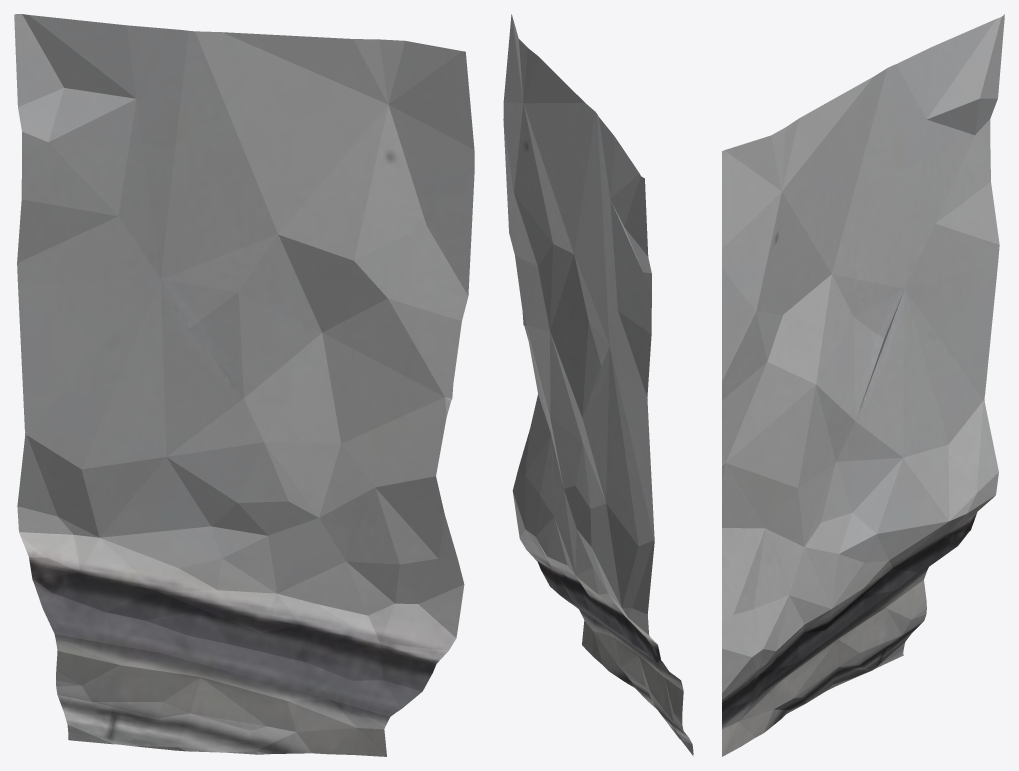
3 views of the same model, side by side, from view 1: azimuth 30°, elevation 25°; view 2: azimuth 150°, elevation 25°; view 3: azimuth 270°, elevation 25° (orthographic). The views are drawn at different scales.
Bounding box in the file's own units: 0.395 × 0.8374 × 0.3343.
2 materials, 2 textured.
